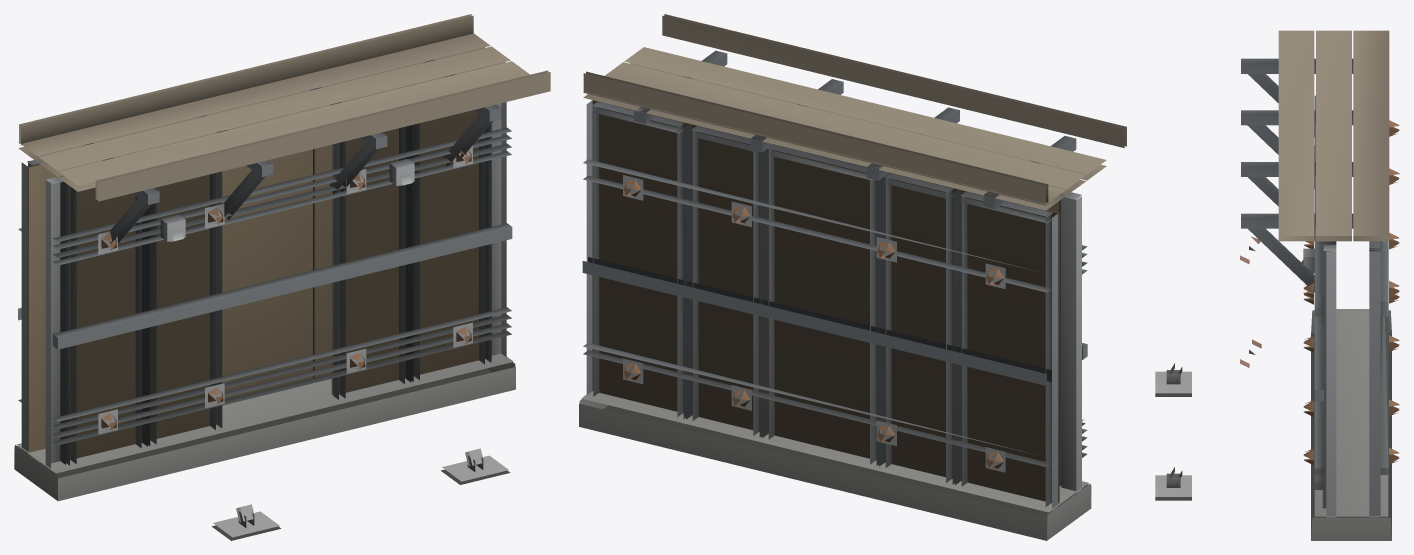
The model's file is formwork.lod.glb.
3 views of the same model, side by side, from view 1: azimuth 30°, elevation 25°; view 2: azimuth 150°, elevation 25°; view 3: azimuth 270°, elevation 25° (orthographic). The views are drawn at different scales.
Visible parts, largest first — view 1: formwork.001; view 2: formwork.001; view 3: formwork.001.
Boxes of the visible parts, x1,y1,x2,y2 form: formwork.001: (14, 14, 550, 540); formwork.001: (579, 14, 1126, 540); formwork.001: (1155, 30, 1399, 540).
Bounding box in the file's own units: 4 × 2.88 × 1.99.
